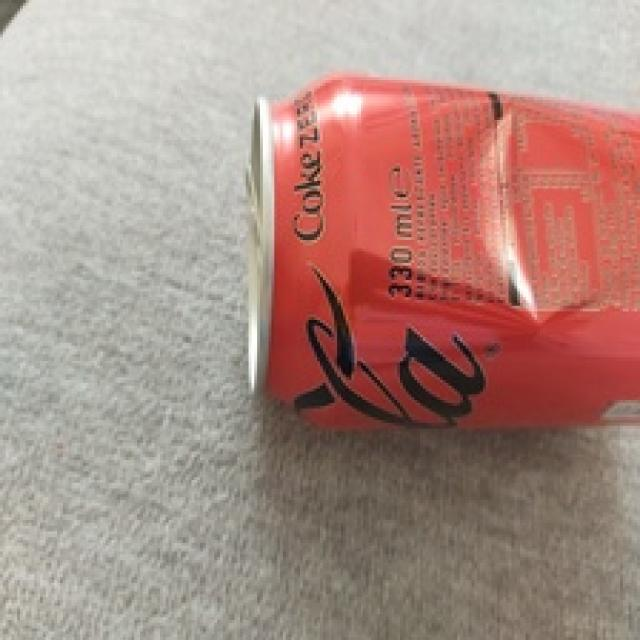recyclable: (240, 71, 640, 431)
